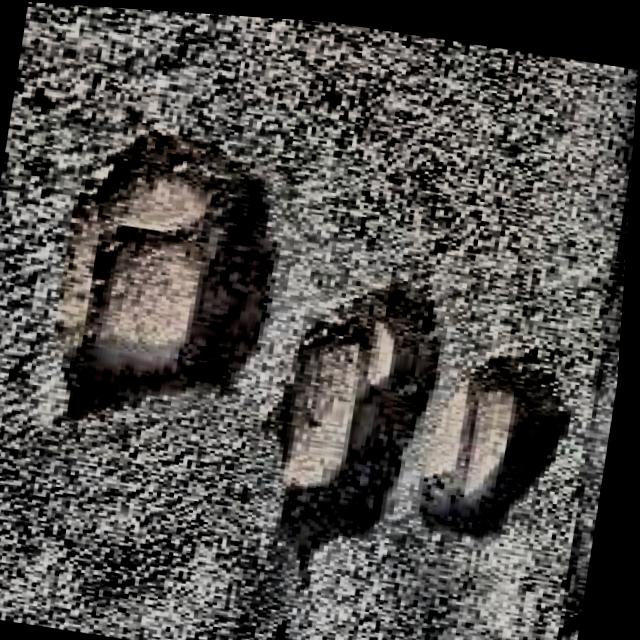pothole: (64, 133, 267, 415), (290, 280, 438, 555), (428, 340, 567, 531)
